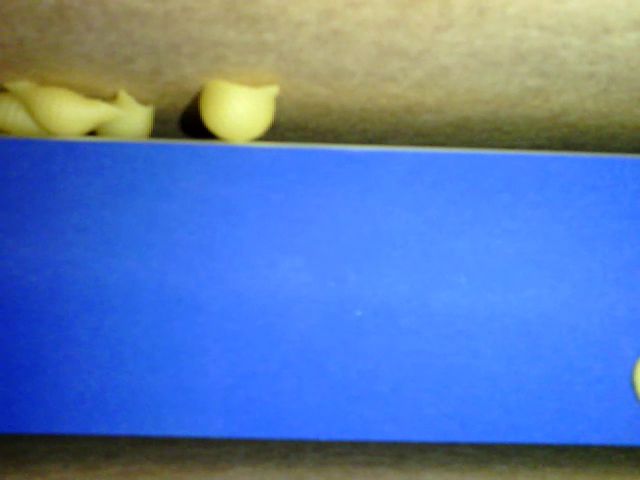shell: (1, 69, 129, 140), (196, 78, 279, 142), (86, 87, 157, 143), (1, 91, 56, 137)
